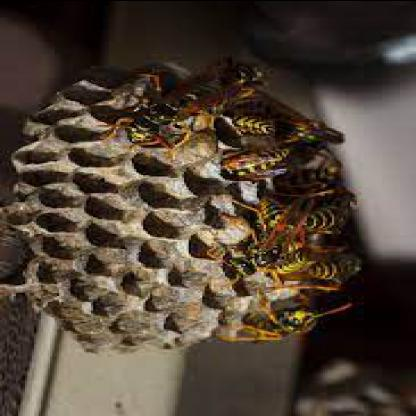other: (214, 145, 294, 179)
